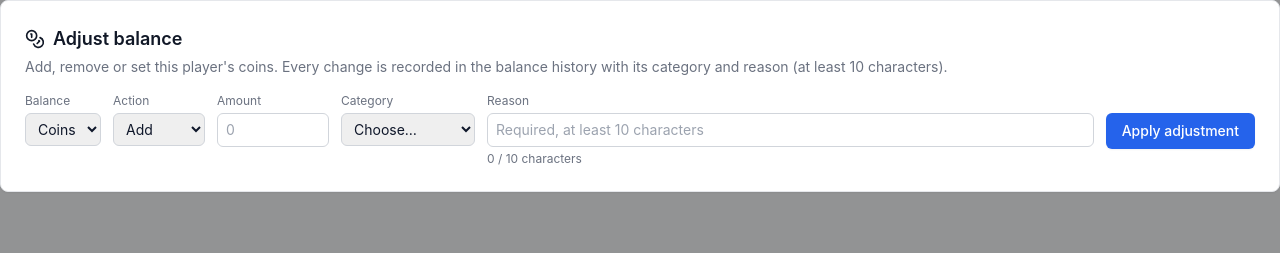
Test: AdjustBalanceCard › keeps Apply enabled and says what is missing instead of doing nothing (KNG-126)
Click the button "Apply adjustment". click: (1180, 131)
box: [1106,113,1255,149]
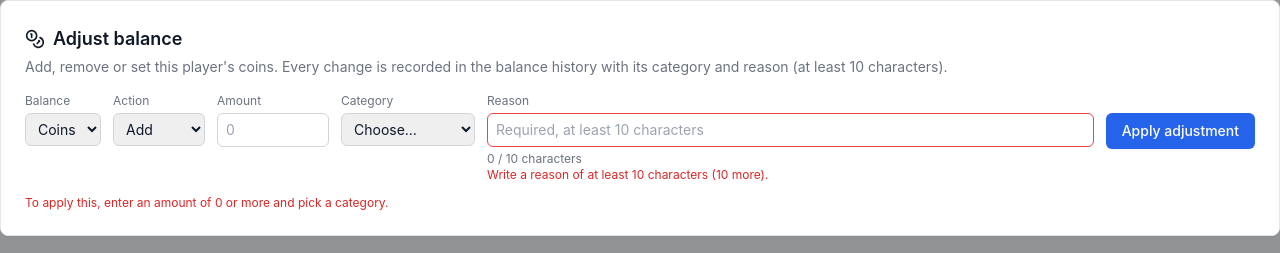
Now the message reads "To apply this, enter an amount of 0 or more and pick a category.", box [25,195,388,210]
Now the text "Write a reason of at least 10 characters (10 more)." is shown, box [487,167,768,182]
